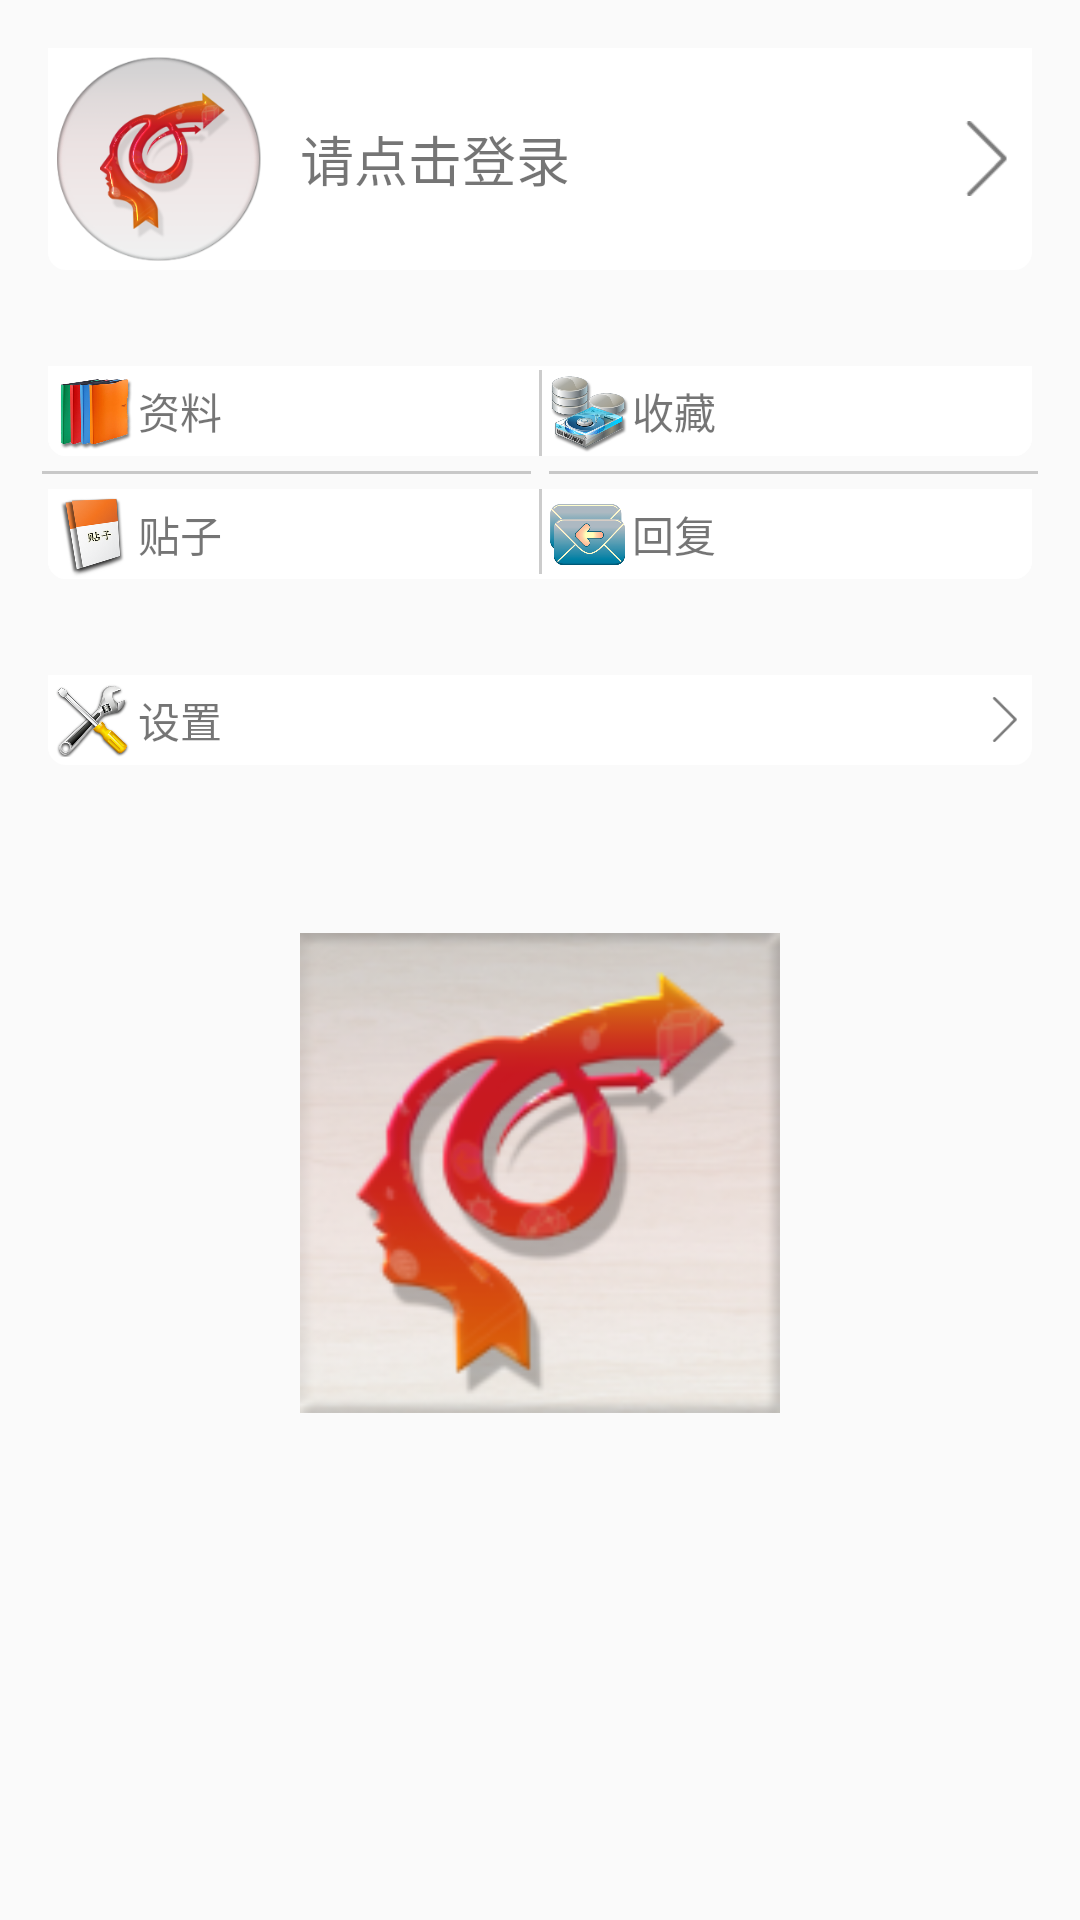

Screen size 1080 × 1920. Icon name, then its box in pixels as (x1, y1, x2, y2):
mine huifu: (550, 504, 625, 565)
mine right: (967, 121, 1007, 196), (993, 697, 1017, 742)
mine shezhi: (57, 686, 128, 757)
mine shouchang: (552, 376, 627, 451)
mine tiezi: (62, 499, 123, 574)
mine ziliao: (61, 379, 131, 448)
